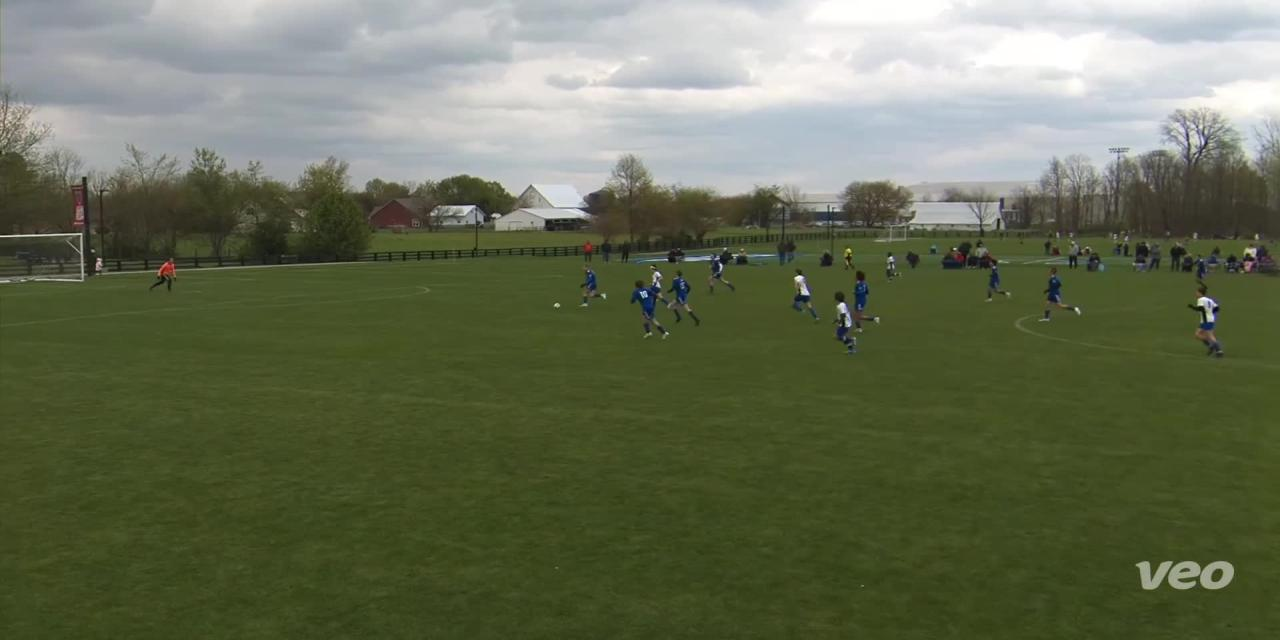goal: (0, 231, 90, 283)
sports ball: (552, 299, 567, 310)
